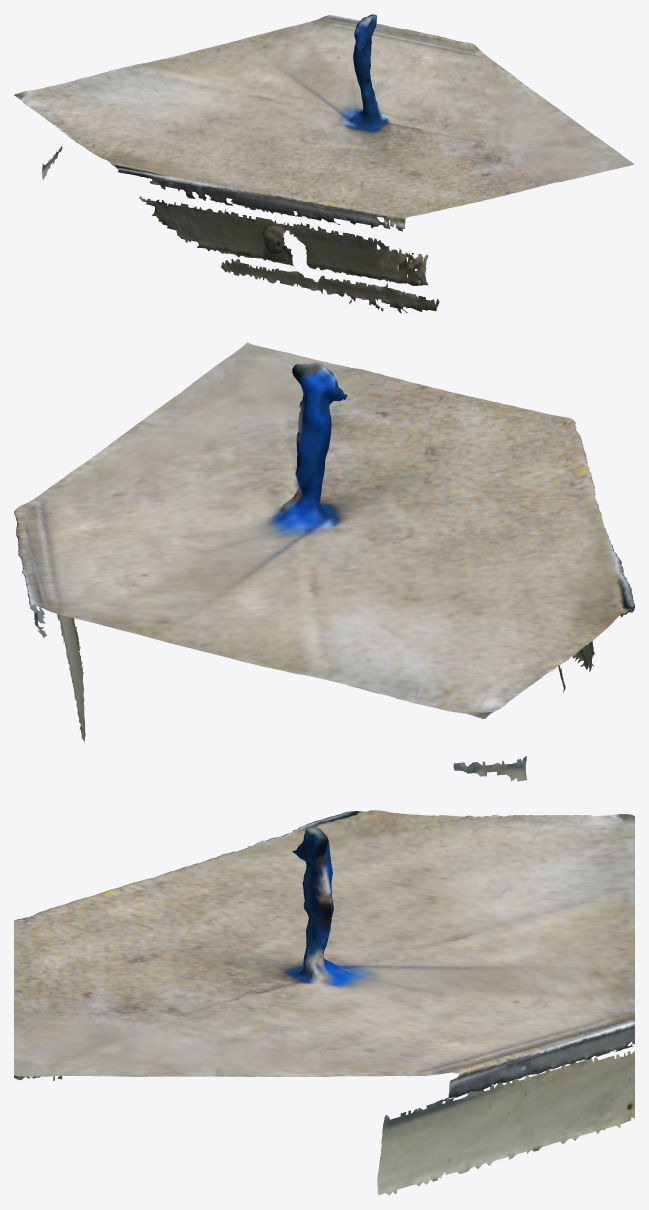
3 renders of one model, top to bottom at view 1: azimuth 30°, elevation 25°; view 2: azimuth 150°, elevation 25°; view 3: azimuth 270°, elevation 25°, orthographic. The views are drawn at different scales.
Visible parts, largest first — view 1: model; view 2: model; view 3: model.
Part boxes in pixels (x1,y1,x2,y2): model: (14, 14, 634, 313); model: (14, 342, 634, 781); model: (14, 810, 634, 1195).
Bounding box in the file's own units: 0.501 × 0.2606 × 0.501.
1 material, 1 textured.
